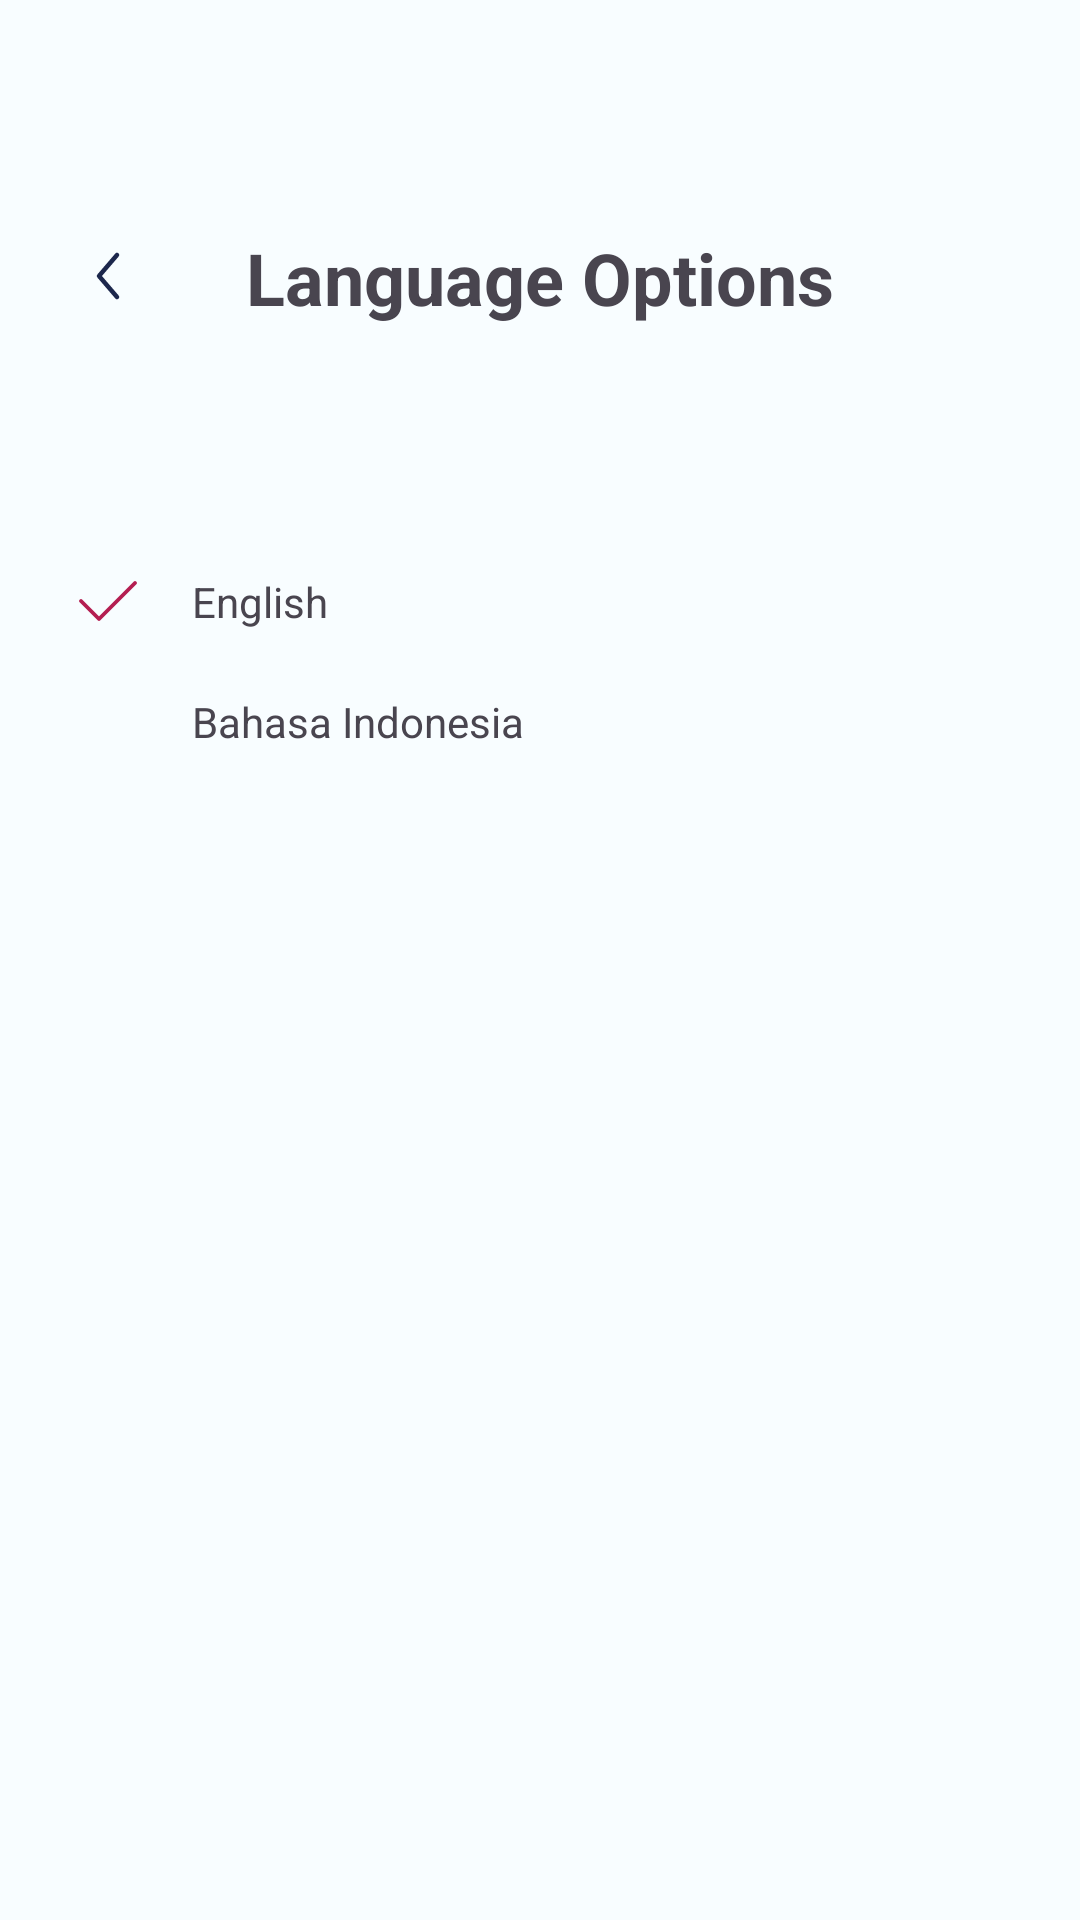

Point at icon controls on the screen. Image size 1080×1920, points as (x,y).
Back Button: (108,276)
check: (108,601)
